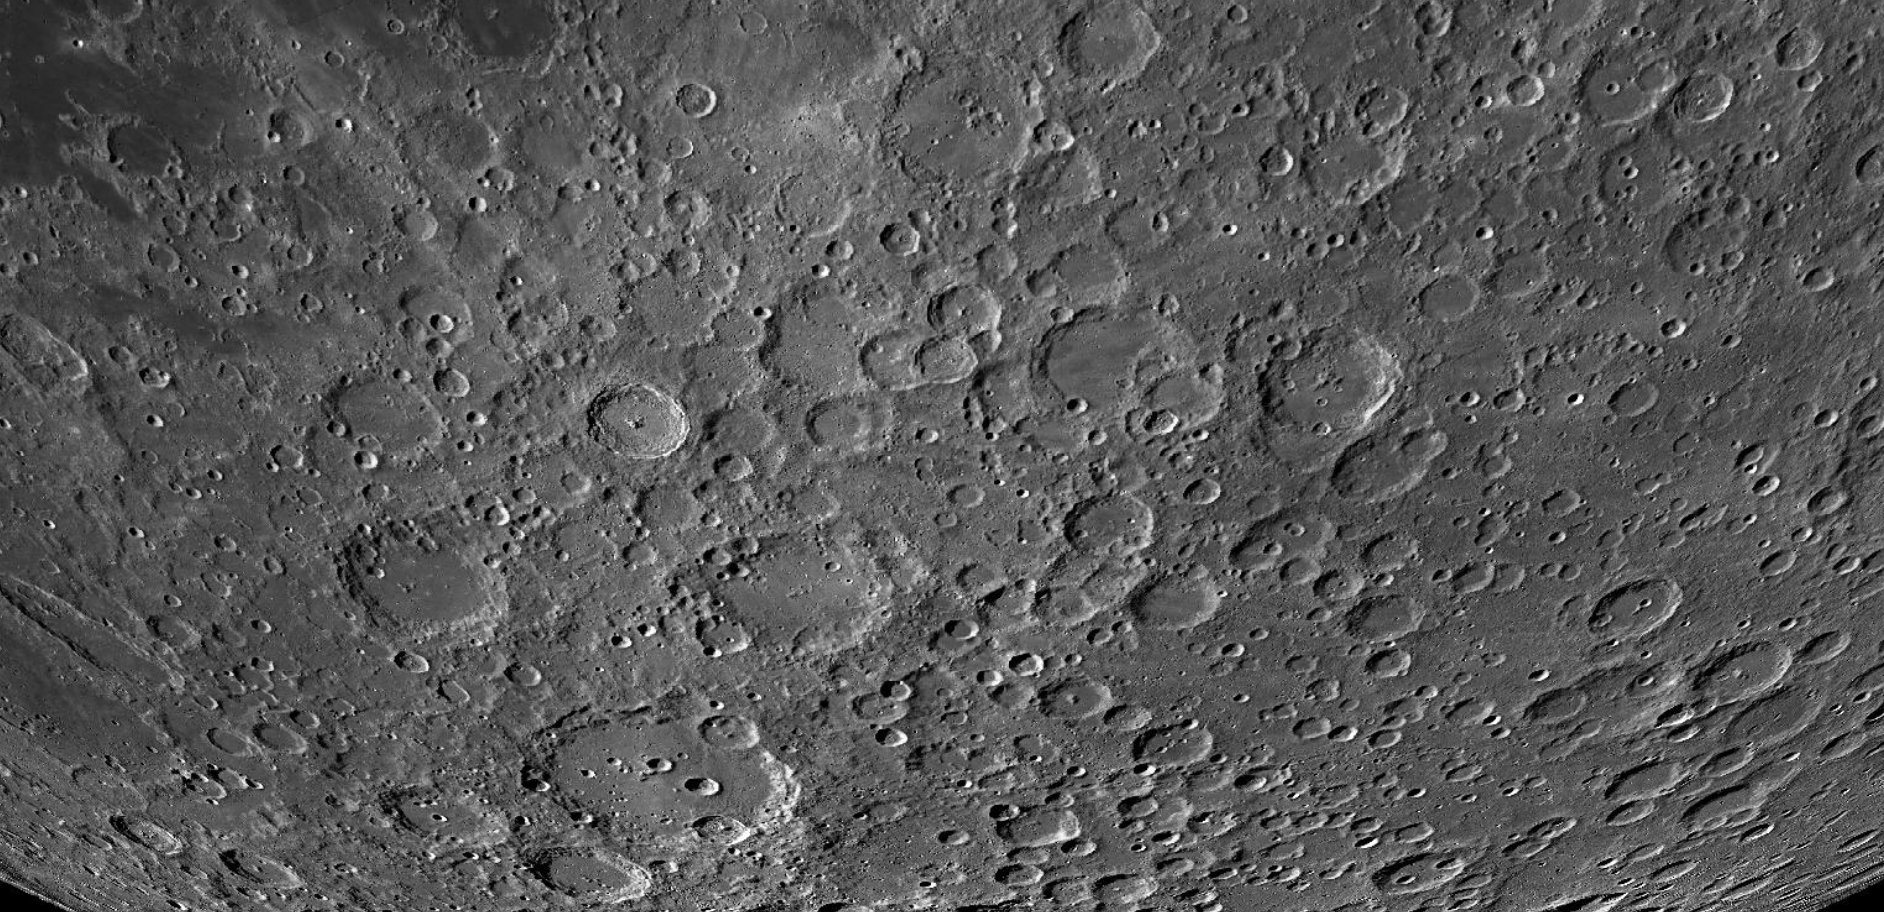crater: (499, 687, 839, 904), (676, 526, 924, 670), (321, 515, 539, 669), (316, 366, 464, 473), (1035, 1, 1180, 102), (565, 369, 697, 467), (1572, 564, 1691, 646), (1127, 566, 1229, 634), (102, 801, 193, 865), (657, 73, 747, 135), (1406, 267, 1486, 332), (1598, 366, 1664, 428), (132, 230, 181, 284), (725, 2, 787, 43), (1795, 260, 1846, 304), (316, 43, 354, 81), (1806, 395, 1843, 433), (380, 11, 421, 43), (1717, 326, 1751, 359)
